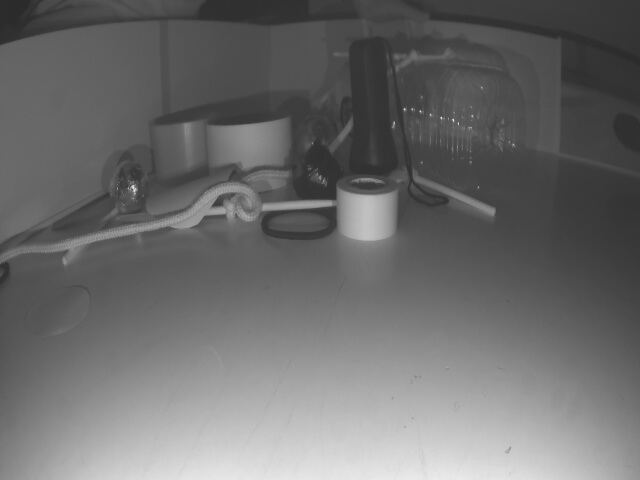Dead: (295, 150, 342, 203)
Live: (109, 162, 147, 212), (299, 114, 338, 162)
